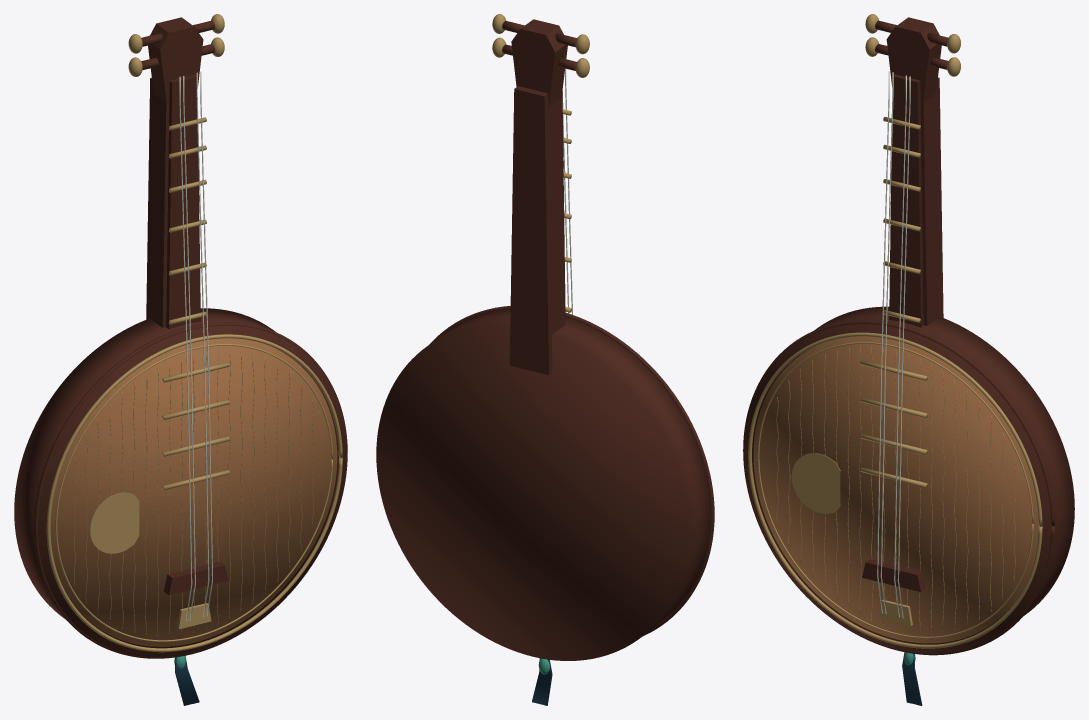
Rendered from Yueqin.fbx.
The picture shows the model from 3 angles, left to right: view 1: azimuth 30°, elevation 25°; view 2: azimuth 150°, elevation 25°; view 3: azimuth 330°, elevation 25°; orthographic projection. The views are drawn at different scales.
Parts seen in each view (by area): view 1: Yueqin_Round_Soundboard, Yueqin_Round_Rosewood_Frame, Yueqin_Circular_Binding, Yueqin_Fingerboard, Yueqin_Soundboard_Grain, Yueqin_Short_Neck, Yueqin_Four_Strings, Yueqin_PegHead, Yueqin_Raised_Frets, Yueqin_HalfMoon_Inlay, Yueqin_Four_Tuning_Pegs, Yueqin_Bridge (+2 smaller); view 2: Yueqin_Round_Rosewood_Frame, Yueqin_Short_Neck, Yueqin_PegHead, Yueqin_Circular_Binding, Yueqin_Four_Tuning_Pegs, Yueqin_Four_Strings, Yueqin_Short_Tassel; view 3: Yueqin_Round_Soundboard, Yueqin_Round_Rosewood_Frame, Yueqin_Circular_Binding, Yueqin_Fingerboard, Yueqin_Soundboard_Grain, Yueqin_Short_Neck, Yueqin_Four_Strings, Yueqin_PegHead, Yueqin_Raised_Frets, Yueqin_HalfMoon_Inlay, Yueqin_Four_Tuning_Pegs, Yueqin_Bridge (+2 smaller).
Part boxes in pixels (x1,y1,x2,y2): Yueqin_Round_Soundboard: (50, 338, 337, 646); Yueqin_Round_Rosewood_Frame: (14, 308, 346, 657); Yueqin_Circular_Binding: (34, 322, 347, 658); Yueqin_Fingerboard: (166, 74, 200, 328); Yueqin_Soundboard_Grain: (73, 348, 314, 636); Yueqin_Short_Neck: (146, 77, 169, 327); Yueqin_Four_Strings: (179, 71, 212, 621); Yueqin_PegHead: (148, 17, 203, 104); Yueqin_Raised_Frets: (162, 117, 229, 490); Yueqin_HalfMoon_Inlay: (90, 492, 139, 553); Yueqin_Four_Tuning_Pegs: (128, 14, 224, 76); Yueqin_Bridge: (163, 561, 228, 595); Yueqin_Round_Rosewood_Frame: (376, 309, 710, 660); Yueqin_Short_Neck: (509, 86, 564, 374); Yueqin_PegHead: (511, 19, 567, 106); Yueqin_Circular_Binding: (429, 306, 714, 635); Yueqin_Four_Tuning_Pegs: (492, 14, 589, 77); Yueqin_Four_Strings: (562, 68, 572, 314); Yueqin_Short_Tassel: (532, 658, 552, 705); Yueqin_Round_Soundboard: (753, 336, 1038, 643); Yueqin_Round_Rosewood_Frame: (744, 306, 1074, 653); Yueqin_Circular_Binding: (743, 320, 1055, 655); Yueqin_Fingerboard: (889, 74, 923, 327); Yueqin_Soundboard_Grain: (776, 346, 1015, 633); Yueqin_Short_Neck: (920, 77, 943, 325); Yueqin_Four_Strings: (877, 71, 910, 618); Yueqin_PegHead: (886, 17, 941, 104); Yueqin_Raised_Frets: (860, 117, 927, 487); Yueqin_HalfMoon_Inlay: (791, 453, 840, 513); Yueqin_Four_Tuning_Pegs: (865, 14, 960, 76); Yueqin_Bridge: (862, 558, 926, 591).
Bounding box in the file's own units: 42 × 86.73 × 8.68.
